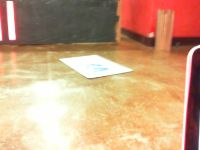switch: (6, 1, 16, 40), (1, 8, 3, 41)
